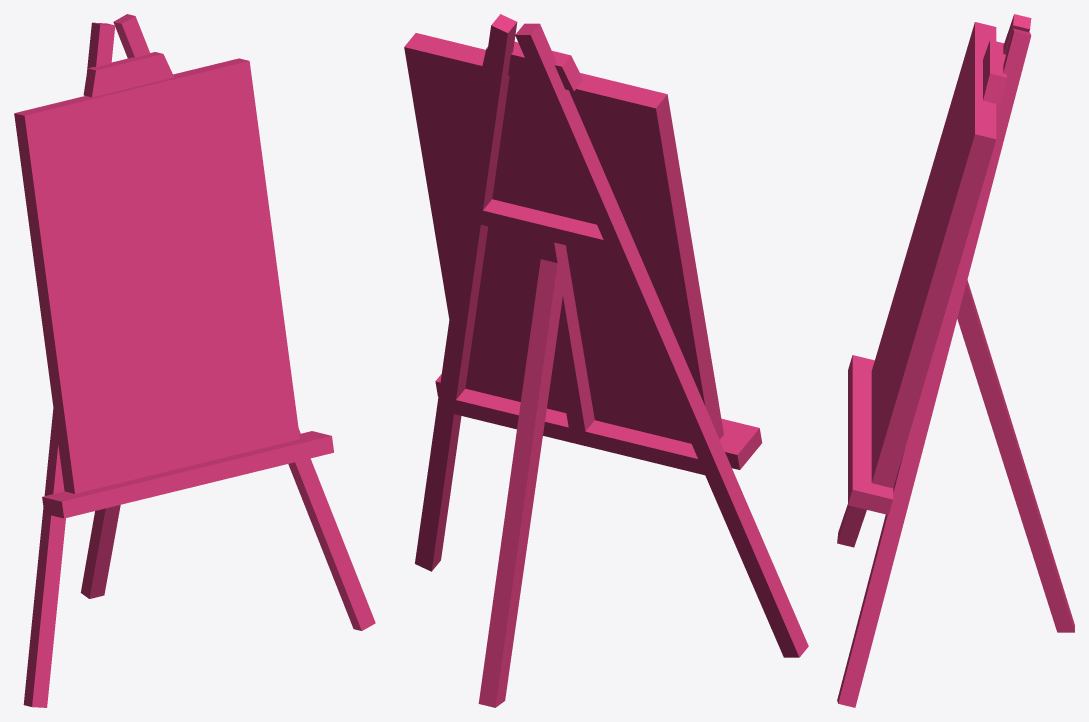
Rendered from SM_easel.fbx.
3 renders of one model, left to right at view 1: azimuth 30°, elevation 25°; view 2: azimuth 150°, elevation 25°; view 3: azimuth 270°, elevation 25°, orthographic. The views are drawn at different scales.
Parts seen in each view (by area): view 1: easel_low; view 2: easel_low; view 3: easel_low.
Boxes of the visible parts, box(x1,y1,x2,y2) form: easel_low: box(14, 14, 375, 707); easel_low: box(404, 14, 808, 707); easel_low: box(837, 14, 1074, 707).
Bounding box in the file's own units: 91.68 × 151 × 53.7.
